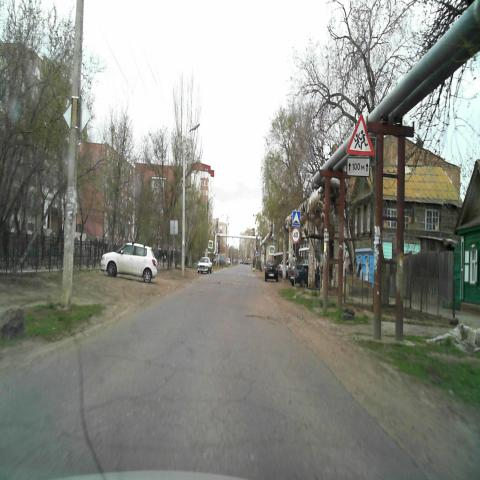8_2_1: (348, 158, 370, 176)
